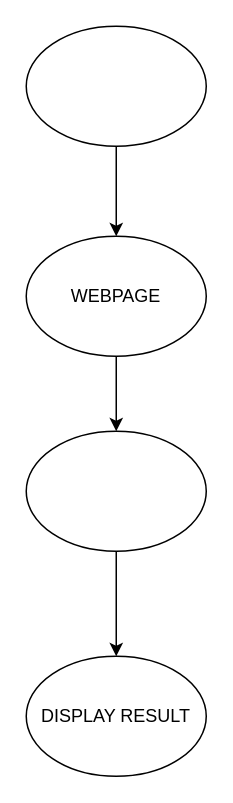
The diagram is 233 pixels wide and 803 high, and some of its shapes have lost their labels. The box of each missing label's shape, as (x1, y1, x2, y2) in pixels:
FEED IMAGE TO MODEL AND COMPUTE: (25, 430, 206, 551)
USER: (25, 25, 206, 146)
